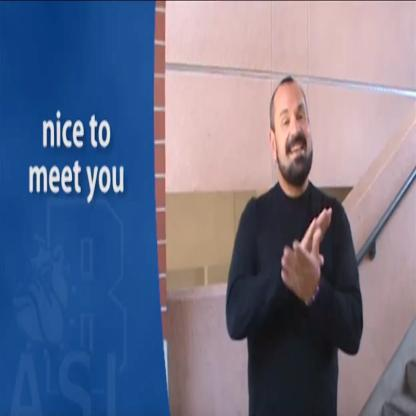NiceToMeetYou: (251, 123, 359, 342)
